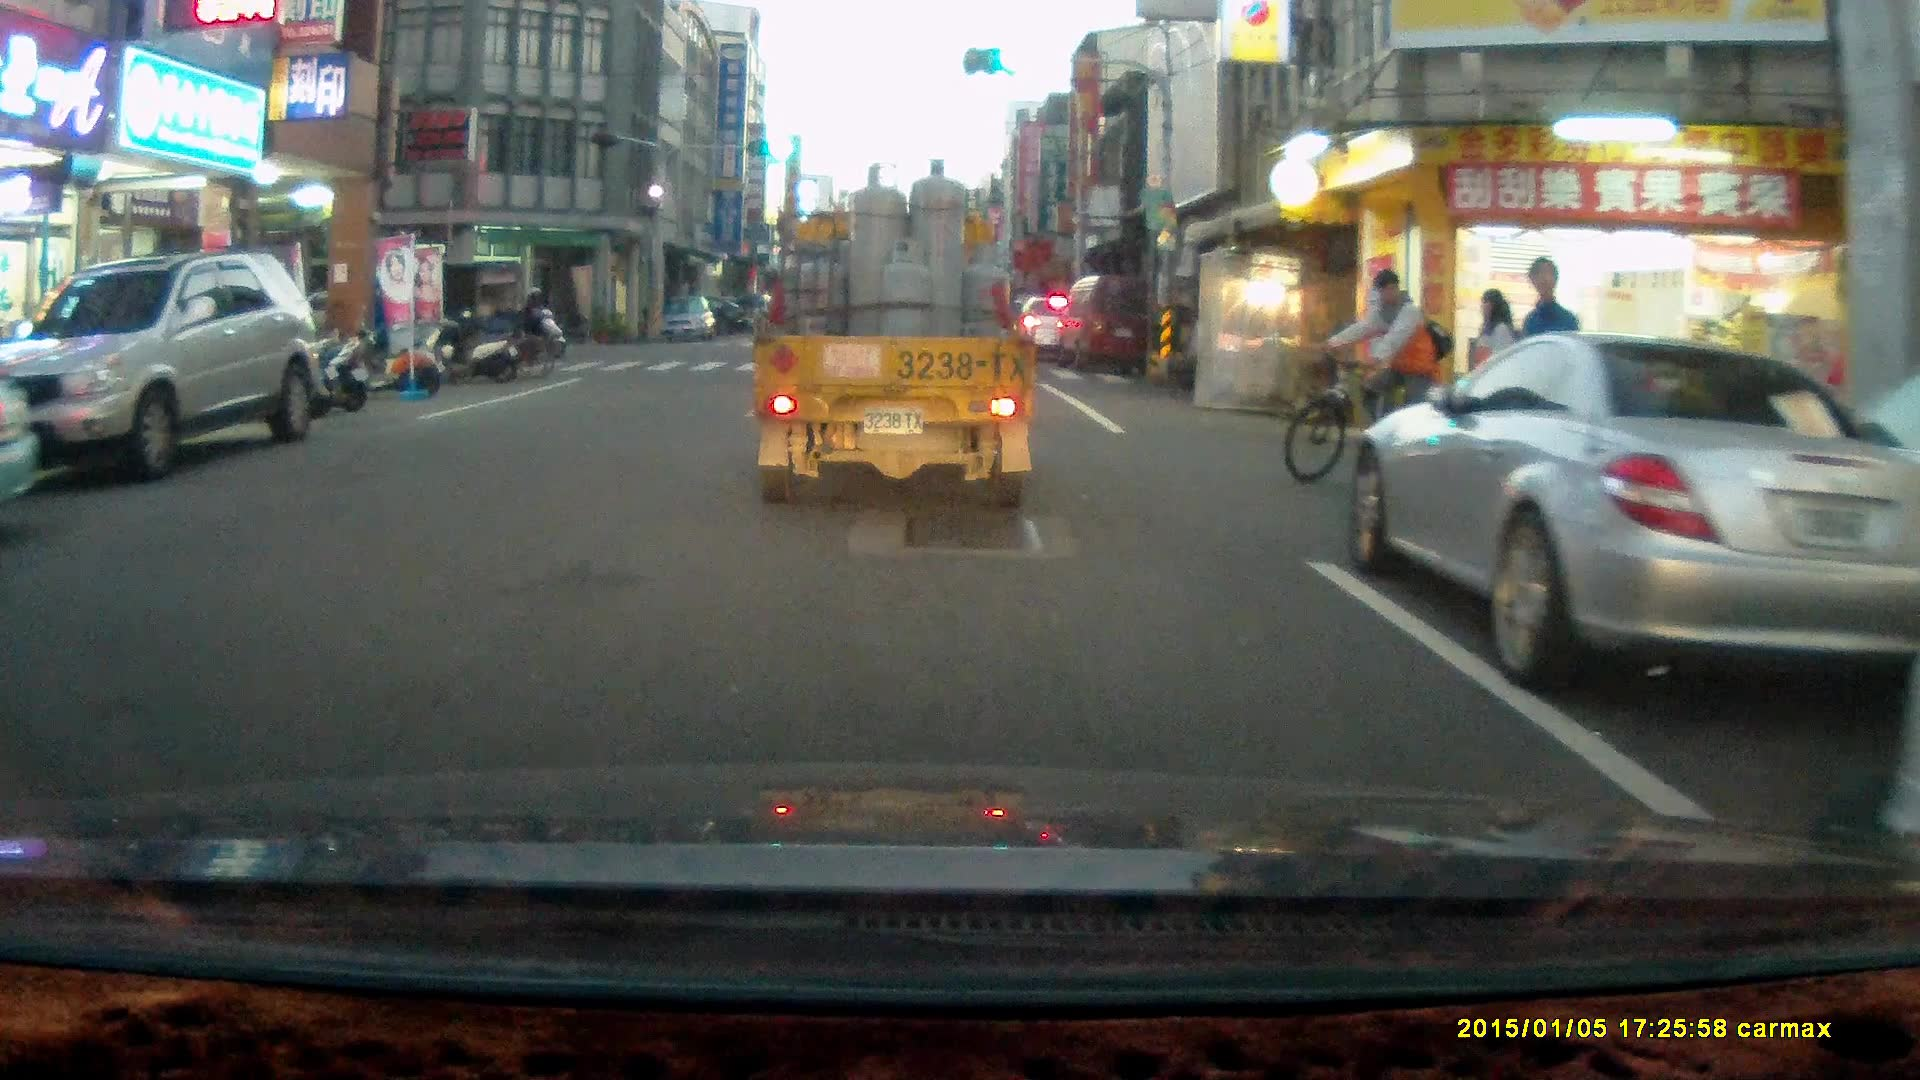pedestrian: (1515, 254, 1583, 494), (1470, 285, 1519, 461)
rider: (1286, 266, 1474, 488), (499, 282, 564, 363)
vehicle: (1349, 333, 1911, 689), (751, 162, 1037, 516), (2, 247, 328, 484), (333, 261, 522, 365), (1060, 274, 1163, 373), (1018, 298, 1088, 361), (655, 291, 721, 349)
